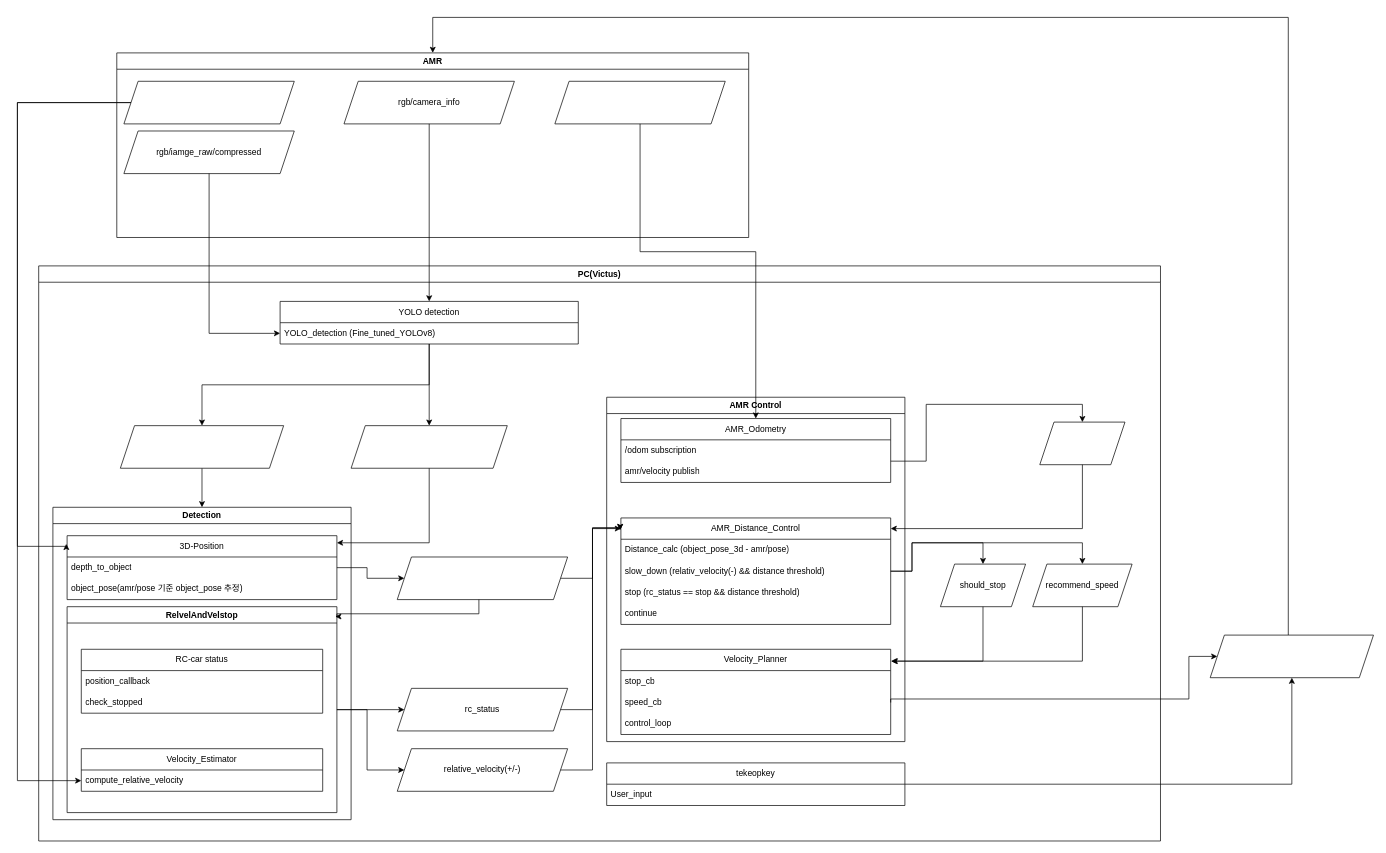
The diagram is 1386 pixels wide and 853 high, and some of its shapes have lost their labels. Each missing label, with the centre of its shape:
/object_pose_3d: pixel 482 578
amr/velocity: pixel 1082 443
car_detection_state: pixel 202 446
car_position: pixel 428 446
cmd_vel: pixel 1291 656
robot8/odom: pixel 639 102
stereo/image_raw: pixel 208 102
